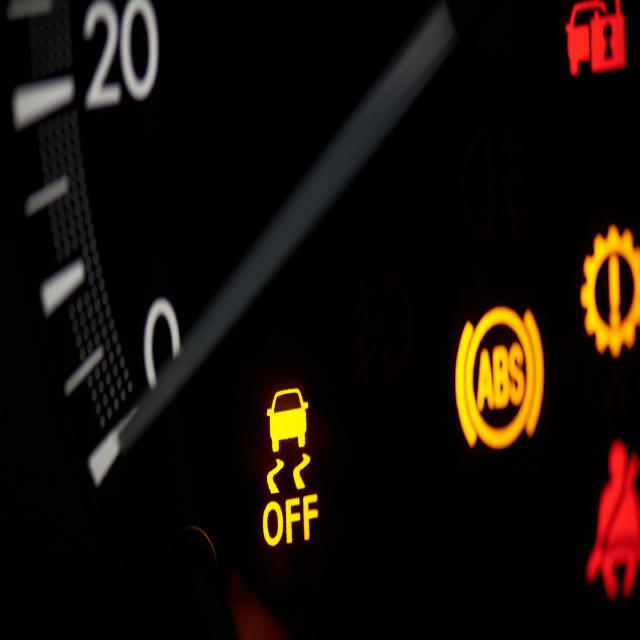kontrolka: (445, 280, 548, 460), (250, 368, 332, 554), (569, 212, 638, 365)
